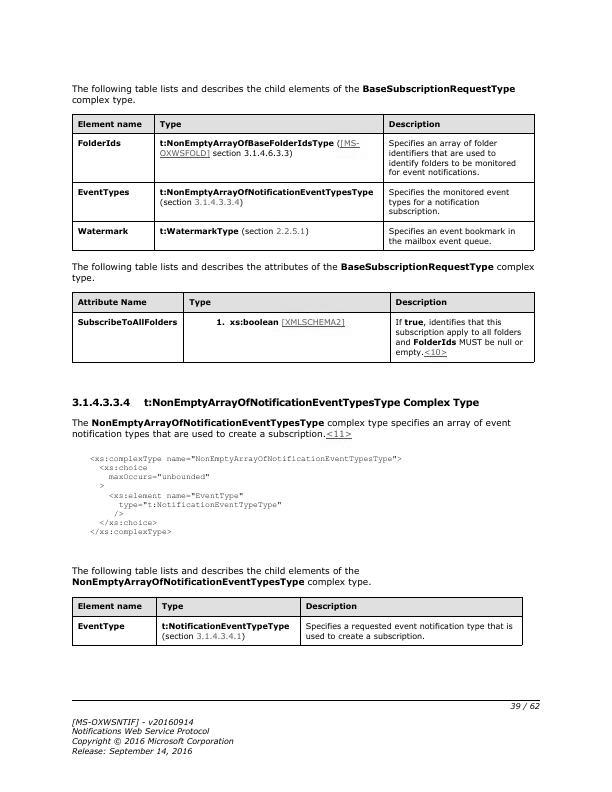table: (70, 112, 537, 253), (70, 290, 537, 366), (70, 594, 524, 648)
text: (87, 452, 401, 536), (70, 80, 517, 107), (68, 415, 512, 441), (68, 260, 534, 284), (70, 564, 374, 589), (70, 394, 481, 411), (66, 714, 234, 755)
